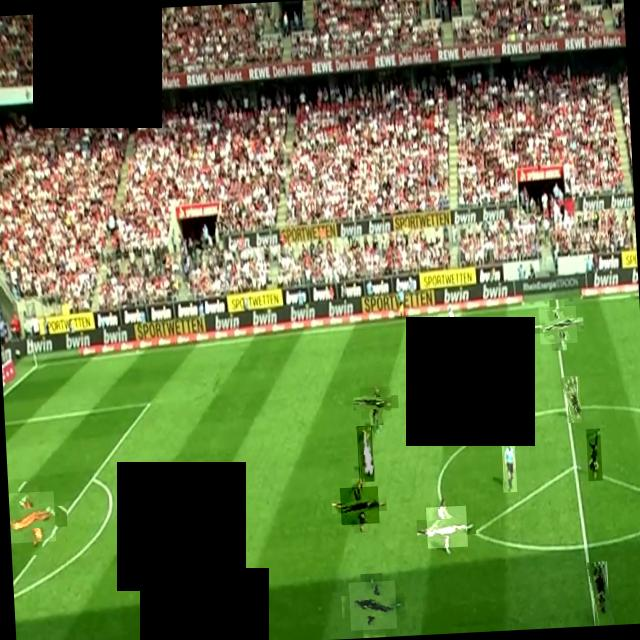goalkeeper: (8, 492, 56, 544)
referee: (502, 437, 518, 493)
soccer-player: (349, 580, 397, 630), (426, 506, 468, 548), (340, 486, 380, 525), (589, 559, 612, 626), (538, 306, 578, 344), (360, 386, 392, 419), (356, 426, 374, 482), (586, 428, 603, 482), (564, 376, 582, 424), (438, 312, 467, 338), (414, 339, 430, 384), (427, 318, 442, 356)
